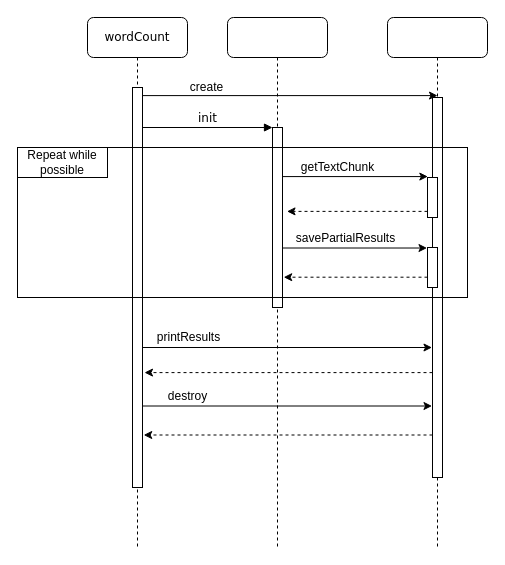
This 505x565 diagram has some shape labels left out. Here are the shapes that lost their labels. From the top down, the centre of each, then its label:
(x=277, y=282): worker(1..N)
(x=437, y=282): textProc
